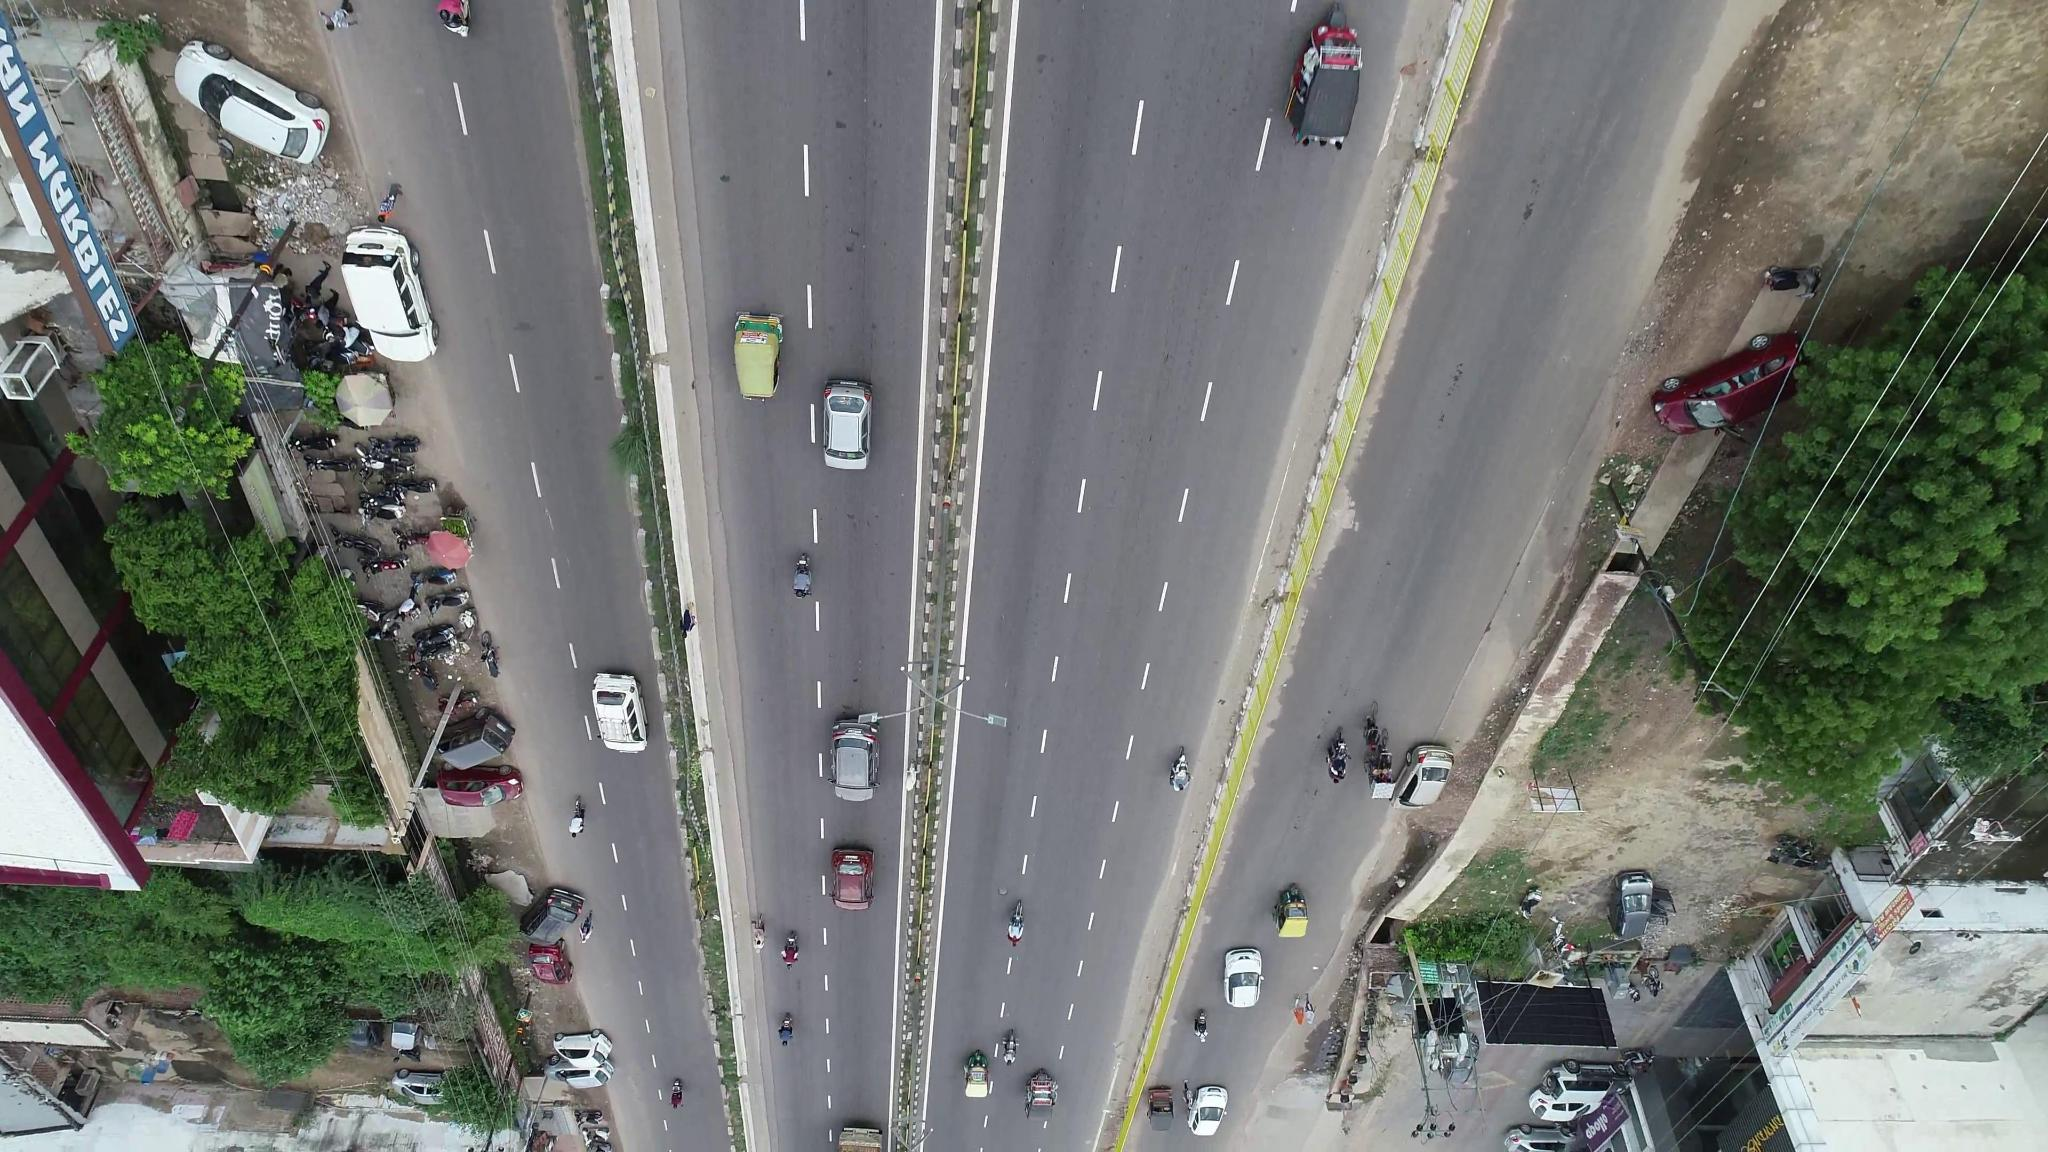Potholes: (985, 873, 1016, 911)
